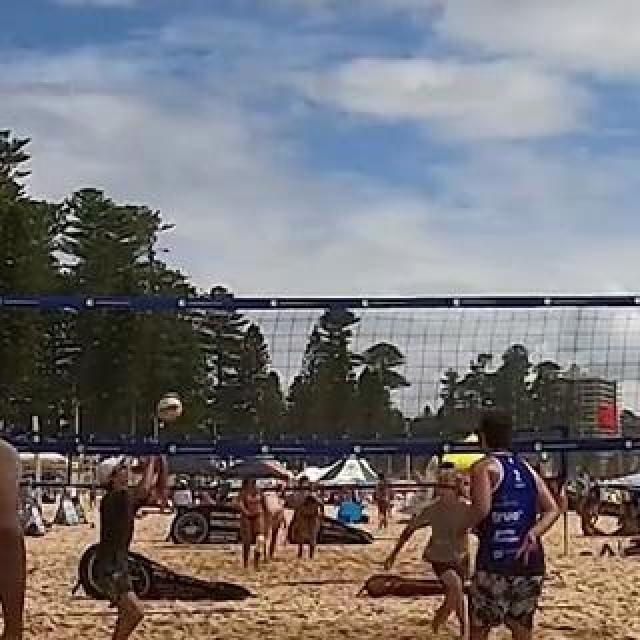volleyball: (159, 396, 183, 422)
